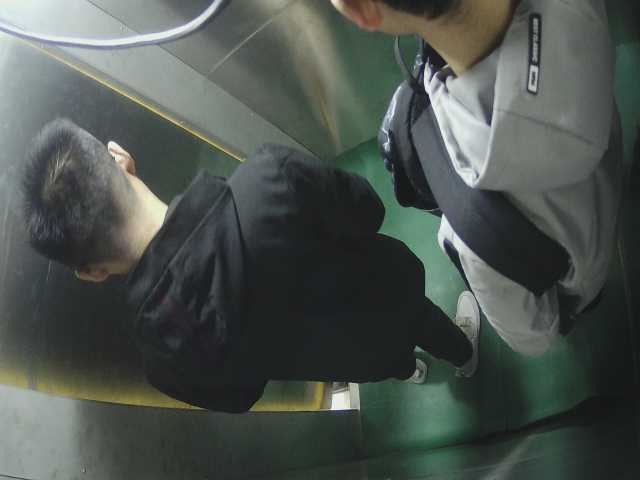bag: (373, 59, 559, 291)
person: (11, 105, 486, 394)
